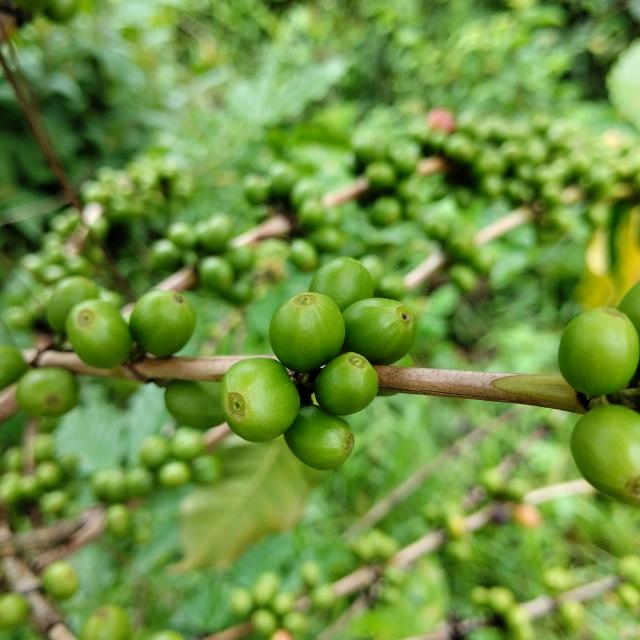green: (559, 307, 640, 396), (571, 405, 640, 508), (219, 358, 300, 443), (269, 292, 345, 373), (342, 298, 418, 365), (284, 405, 355, 471), (65, 299, 132, 368), (129, 289, 196, 357), (314, 352, 379, 416), (309, 257, 374, 312), (164, 381, 225, 429)
